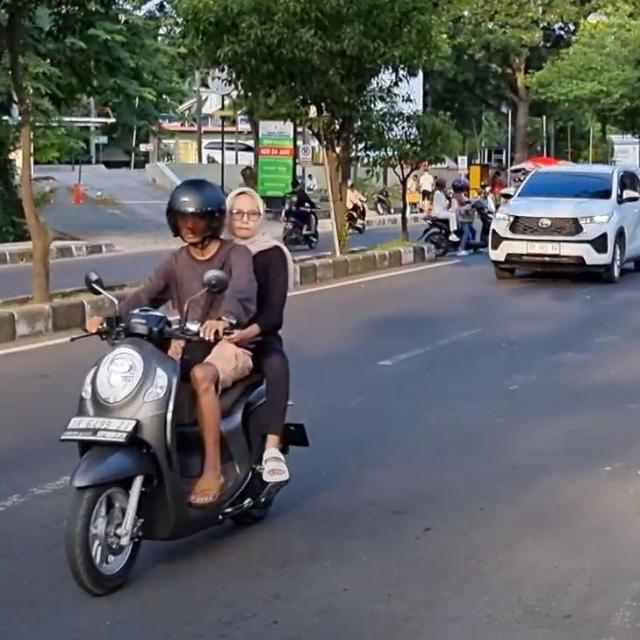plate: (61, 418, 138, 442)
